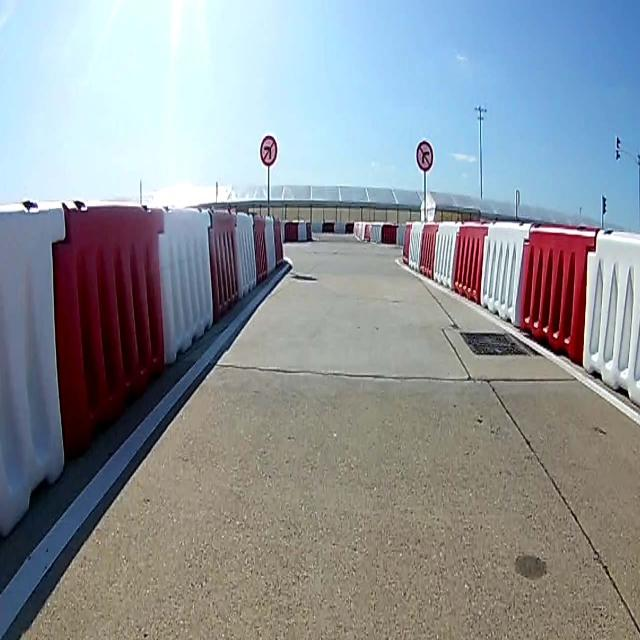sagadonulmez: (415, 140, 433, 168)
soladonulmez: (260, 134, 278, 166)
